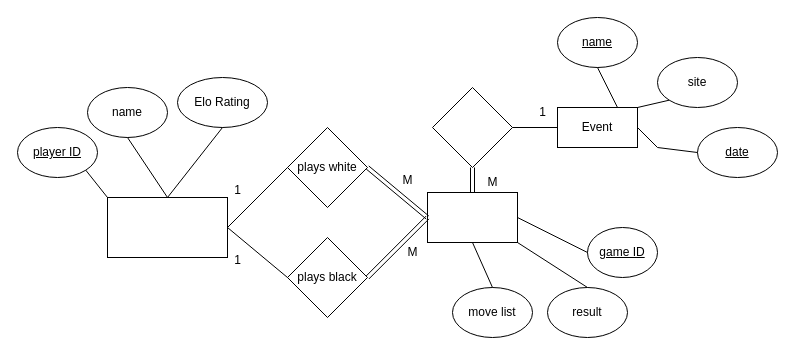
Image size: 795x355. Some labels were removed from this diagram. Each missing label, with the box of its shape:
game: (426, 192, 518, 242)
hosted at: (432, 86, 512, 168)
Player: (106, 196, 228, 258)
